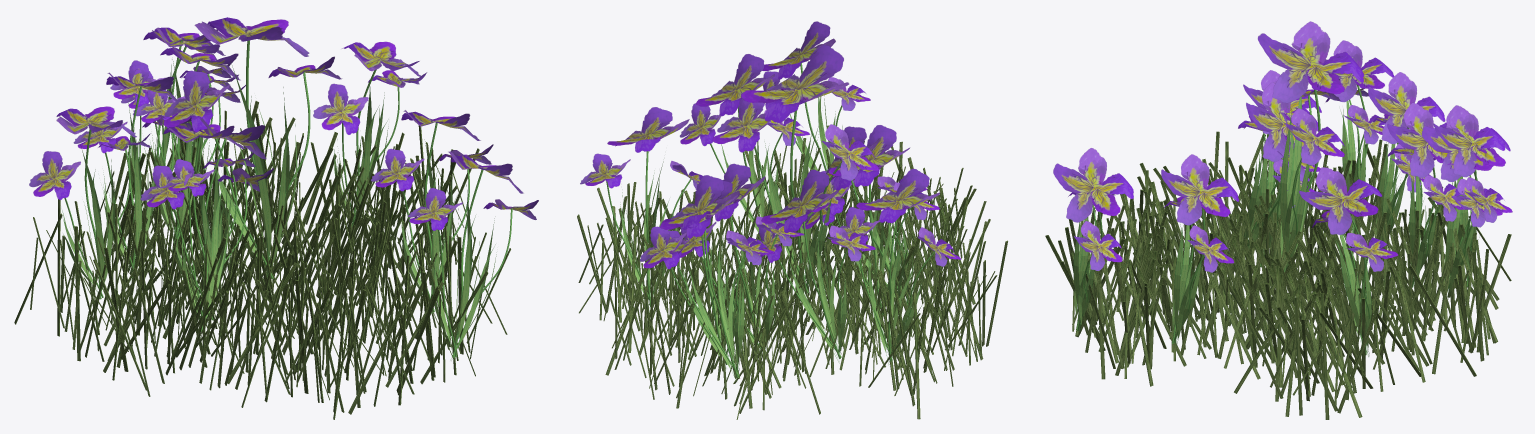
File: iris.glb
3 views of the same model, side by side, from view 1: azimuth 30°, elevation 25°; view 2: azimuth 150°, elevation 25°; view 3: azimuth 270°, elevation 25° (orthographic). The views are drawn at different scales.
Visible parts, largest first — view 1: lys (×11), Cube.010 (×2); view 2: lys (×11), Cube.010 (×2); view 3: lys (×11), Cube.010 (×9).
Boxes of the visible parts, left/top/right/bottom form: lys (×11): left=29, top=17, right=538, bottom=360; Cube.010 (×2): left=227, top=262, right=414, bottom=414; lys (×11): left=580, top=21, right=961, bottom=381; Cube.010 (×2): left=676, top=281, right=920, bottom=419; lys (×11): left=1053, top=21, right=1512, bottom=356; Cube.010 (×9): left=1127, top=246, right=1476, bottom=419.
Size of the model in its own units: 1.09 by 0.7919 by 1.13.
6 materials, 4 textured.
